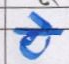e_matra: (29, 12, 53, 27)
